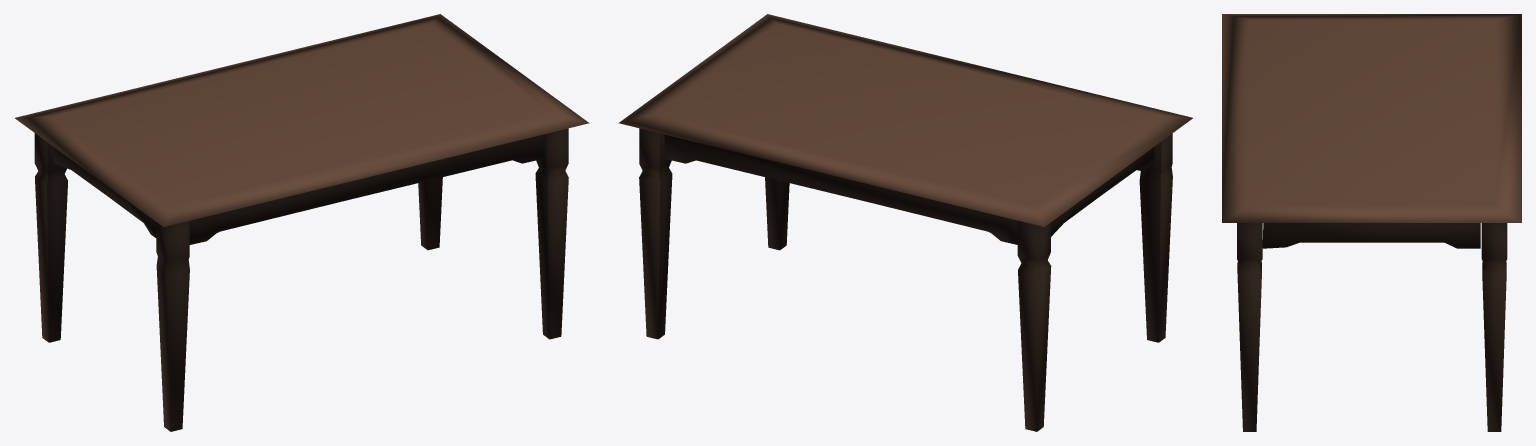
3 renders of one model, left to right at view 1: azimuth 30°, elevation 25°; view 2: azimuth 150°, elevation 25°; view 3: azimuth 270°, elevation 25°, orthographic.
Parts seen in each view (by area): view 1: alt1.020; view 2: alt1.020; view 3: alt1.020.
Boxes of the visible parts, x1,y1,x2,y2 form: alt1.020: (15,14,589,431); alt1.020: (618,14,1192,431); alt1.020: (1222,14,1521,431).
Size of the model in its own units: 0.5 by 0.2491 by 0.3032.
